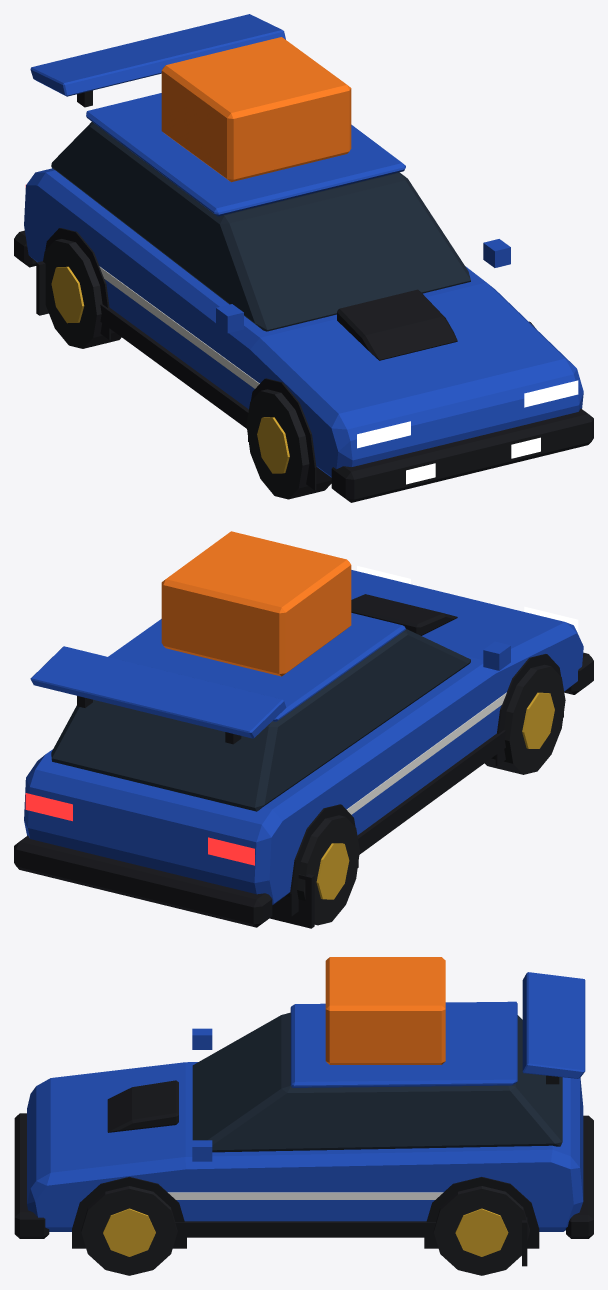
The model's file is rally.glb.
The picture shows the model from 3 angles, top to bottom: view 1: azimuth 30°, elevation 25°; view 2: azimuth 150°, elevation 25°; view 3: azimuth 270°, elevation 25°; orthographic projection. The views are drawn at different scales.
Visible parts, largest first — view 1: tub, glasshouse, bag, roof, bumper_f, wing, scoop, wheel_FL, wheel_RL, rocker_-1, stripe_-1, wheel_FL_hub (+7 smaller); view 2: tub, glasshouse, bag, wing, roof, bumper_r, wheel_FL, wheel_RL, rocker_-1, scoop, stripe_-1, wheel_RL_hub (+8 smaller); view 3: tub, glasshouse, bag, roof, wing, wheel_FR, wheel_RR, rocker_1, scoop, stripe_1, bumper_f, wheel_FR_hub (+6 smaller).
Part boxes in pixels (<box>): tub: <box>24,168,583,477</box>; glasshouse: <box>51,122,470,331</box>; bag: <box>161,37,351,182</box>; roof: <box>86,93,405,216</box>; bumper_f: <box>331,408,593,502</box>; wing: <box>30,14,285,96</box>; scoop: <box>337,289,457,360</box>; wheel_FL: <box>246,389,331,499</box>; wheel_RL: <box>43,239,121,348</box>; rocker_-1: <box>100,304,248,428</box>; stripe_-1: <box>99,266,259,388</box>; wheel_FL_hub: <box>257,417,289,473</box>; tub: <box>24,570,583,904</box>; glasshouse: <box>51,629,470,811</box>; bag: <box>161,531,351,676</box>; wing: <box>30,646,286,738</box>; roof: <box>108,613,405,721</box>; bumper_r: <box>14,835,272,927</box>; wheel_FL: <box>484,664,565,774</box>; wheel_RL: <box>285,815,359,925</box>; rocker_-1: <box>357,730,505,854</box>; scoop: <box>351,594,457,635</box>; stripe_-1: <box>346,692,506,814</box>; wheel_RL_hub: <box>316,843,349,899</box>; tub: <box>27,1062,583,1231</box>; glasshouse: <box>192,1012,562,1152</box>; bag: <box>325,957,445,1064</box>; roof: <box>290,1001,517,1087</box>; wing: <box>522,972,585,1078</box>; wheel_FR: <box>81,1186,177,1275</box>; wheel_RR: <box>433,1186,529,1275</box>; rocker_1: <box>175,1221,435,1237</box>; scoop: <box>107,1080,178,1132</box>; stripe_1: <box>168,1192,443,1199</box>; bumper_f: <box>14,1113,49,1238</box>; wheel_FR_hub: <box>103,1208,155,1256</box>.
Size of the model in its own units: 2.1 by 1.98 by 4.35.
